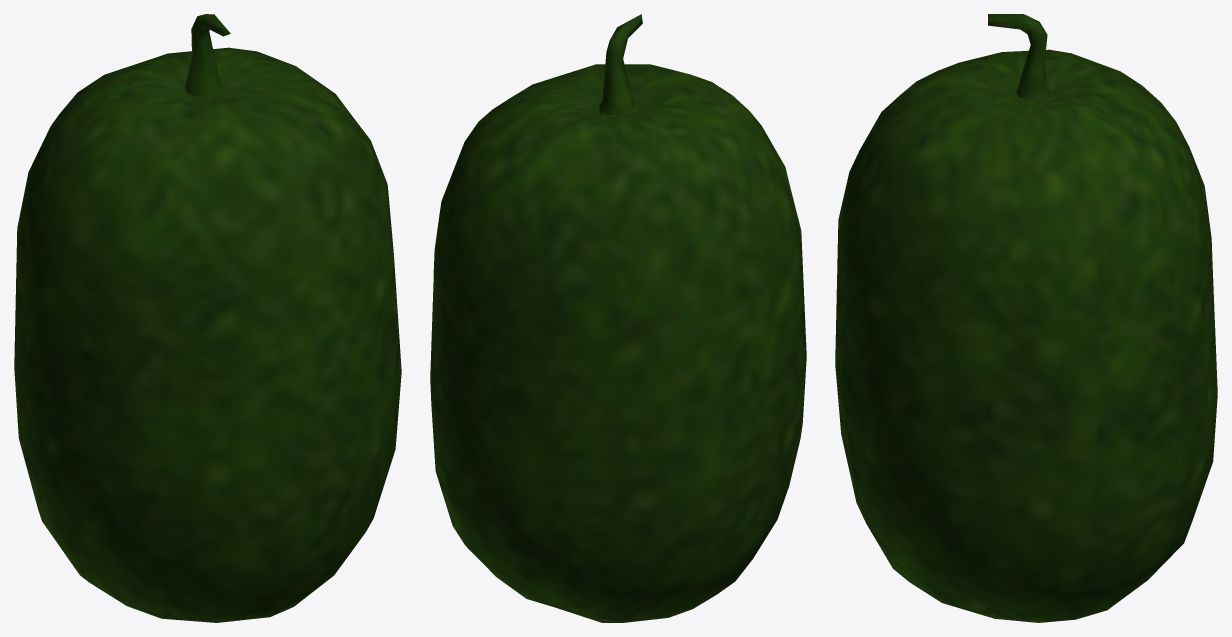
File: SM_配餐室_水果蔬菜_26.fbx
3 views of the same model, side by side, from view 1: azimuth 30°, elevation 25°; view 2: azimuth 150°, elevation 25°; view 3: azimuth 270°, elevation 25° (orthographic). The views are drawn at different scales.
Visible parts, largest first — view 1: SM_配餐室_水果蔬菜_26; view 2: SM_配餐室_水果蔬菜_26; view 3: SM_配餐室_水果蔬菜_26.
Boxes of the visible parts, x1=… form: SM_配餐室_水果蔬菜_26: x1=14, y1=14, x2=401, y2=622; SM_配餐室_水果蔬菜_26: x1=430, y1=14, x2=806, y2=622; SM_配餐室_水果蔬菜_26: x1=835, y1=14, x2=1217, y2=622.
Size of the model in its own units: 122 by 200 by 121.
